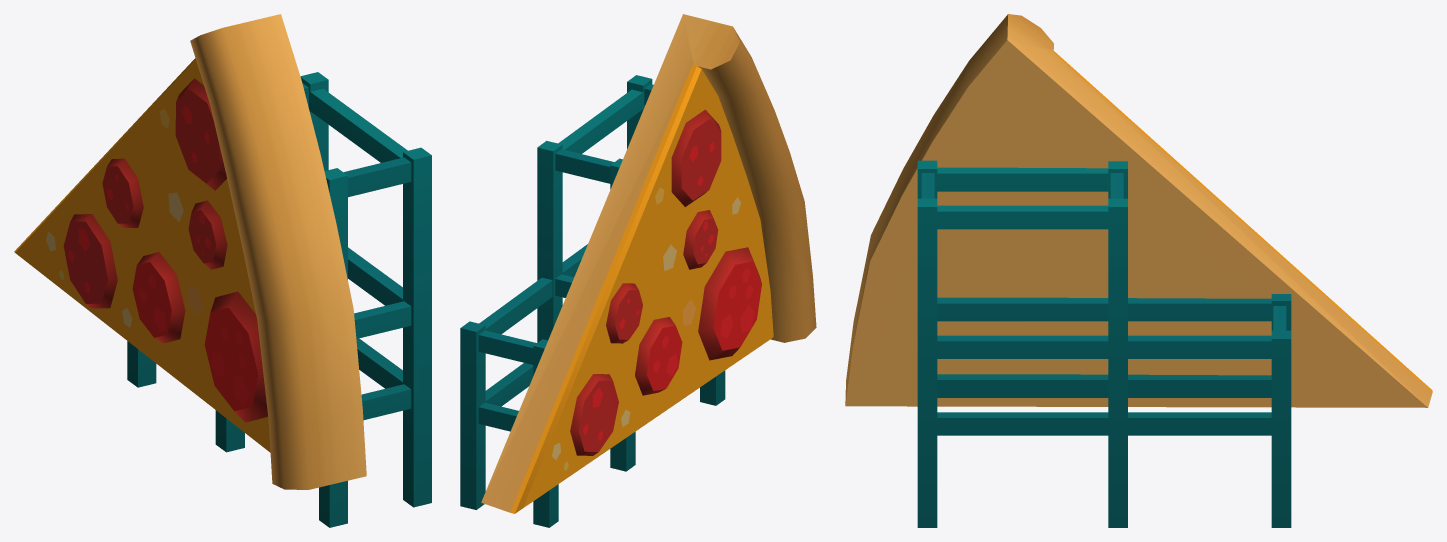
File: PizzaSign_1_A.fbx
3 views of the same model, side by side, from view 1: azimuth 30°, elevation 25°; view 2: azimuth 150°, elevation 25°; view 3: azimuth 270°, elevation 25° (orthographic). The views are drawn at different scales.
Visible parts, largest first — view 1: PizzaSign_1_A; view 2: PizzaSign_1_A; view 3: PizzaSign_1_A.
Boxes of the visible parts, left/top/right/bottom form: PizzaSign_1_A: left=14, top=14, right=431, bottom=527; PizzaSign_1_A: left=460, top=14, right=816, bottom=527; PizzaSign_1_A: left=845, top=14, right=1432, bottom=527.
Size of the model in its own units: 113 by 292 by 352.
